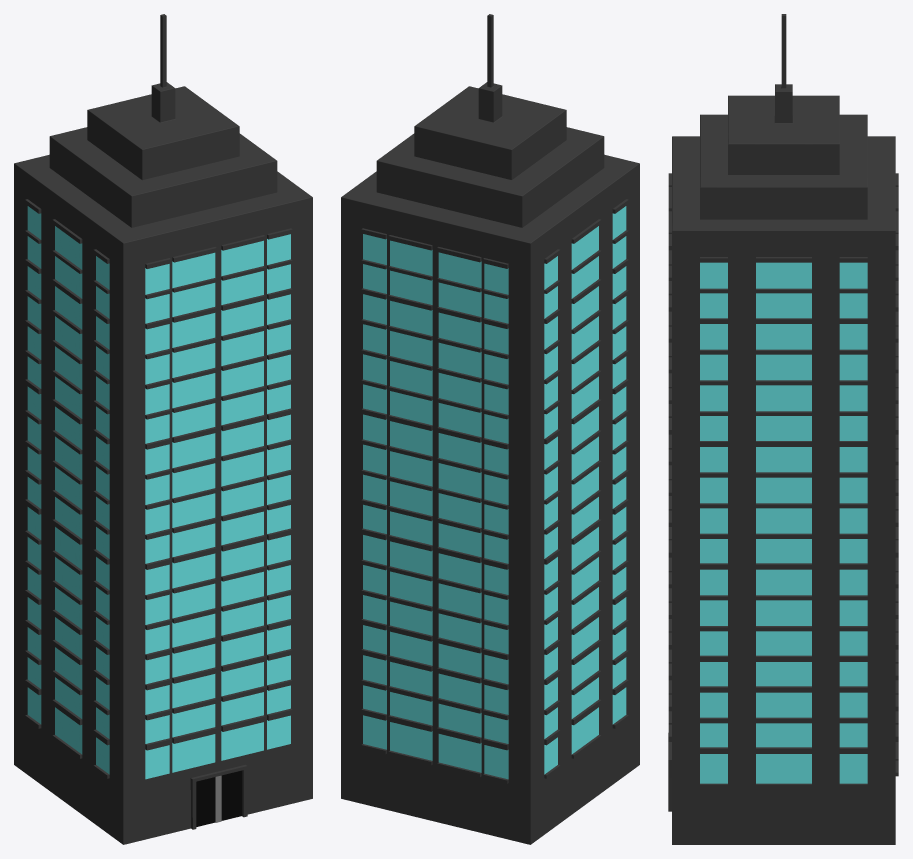
Rendered from skyscraper.obj.
The picture shows the model from 3 angles, left to right: view 1: azimuth 30°, elevation 25°; view 2: azimuth 150°, elevation 25°; view 3: azimuth 270°, elevation 25°; orthographic projection. The views are drawn at different scales.
Parts seen in each view (by area): view 1: pCube5; view 2: pCube5; view 3: pCube5.
Part boxes in pixels (left/top/right/bottom): pCube5: left=14, top=14, right=312, bottom=844; pCube5: left=341, top=14, right=639, bottom=844; pCube5: left=668, top=14, right=898, bottom=844.
Size of the model in its own units: 785 by 2953 by 787.
